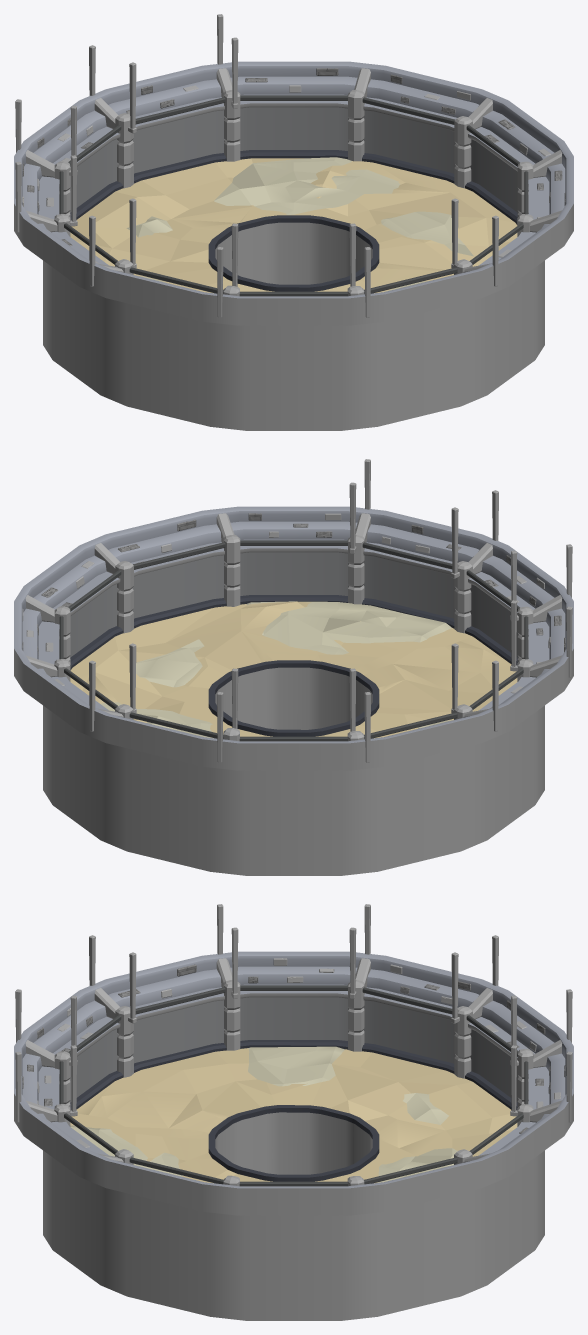
File: Arena_Base.fbx
3 renders of one model, top to bottom at view 1: azimuth 30°, elevation 25°; view 2: azimuth 150°, elevation 25°; view 3: azimuth 270°, elevation 25°, orthographic.
Parts seen in each view (by area): view 1: Arena, Arena1, pCube29; view 2: Arena, Arena1, pCube29; view 3: Arena, Arena1, pCube29.
Part boxes in pixels (x1,y1,x2,y2): Arena: (14,14,573,430); Arena1: (126,157,473,292); pCube29: (22,68,565,263); Arena: (14,459,573,875); Arena1: (100,601,451,738); pCube29: (22,513,565,708); Arena: (14,904,573,1320); Arena1: (70,1046,457,1182); pCube29: (22,958,565,1147).
Size of the model in its own units: 2250 by 1101 by 2250.
